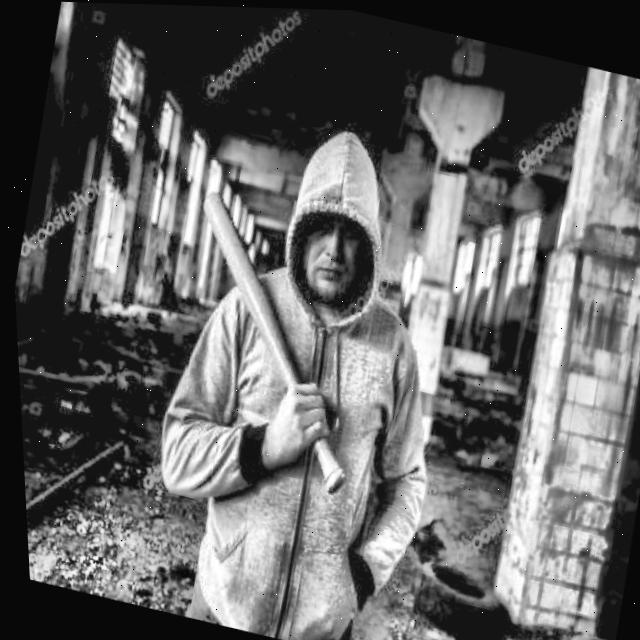tongkat pemukul: (187, 187, 361, 509)
